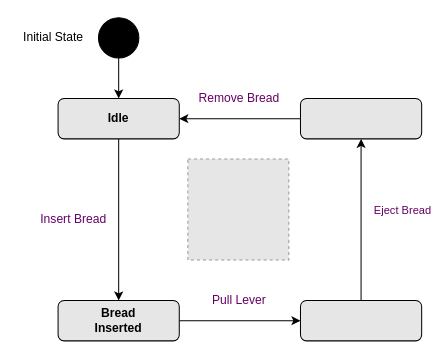
This 447x359 diagram has some shape labels left out. Grey dashed boxes stand in for pictures. Each missing label, with the centre of its shape:
"Bread Ejected" goes at (x=360, y=118).
"Toasting" goes at (x=360, y=320).
